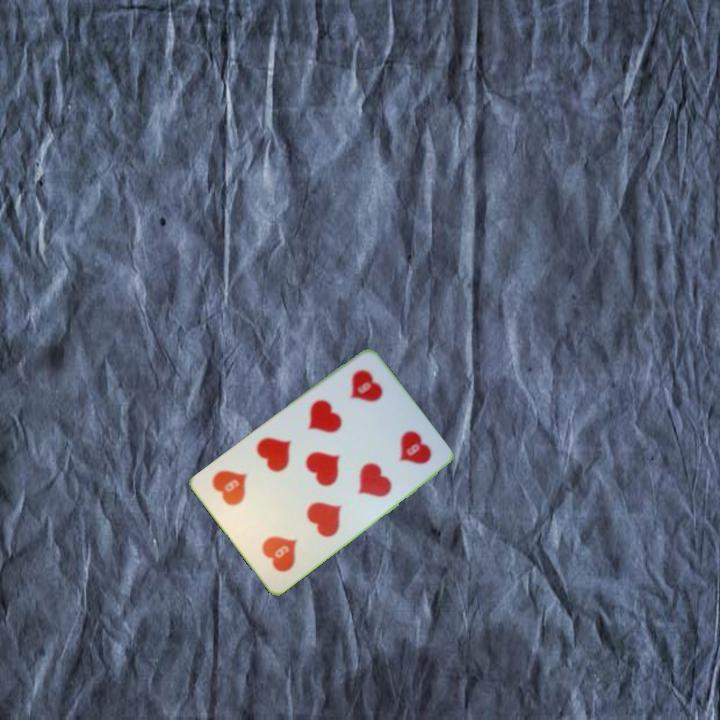h_9.png: (237, 498, 322, 584), (323, 357, 407, 443)
